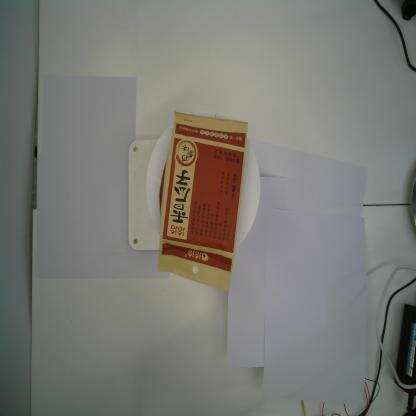Dried Food: (156, 110, 250, 296)
